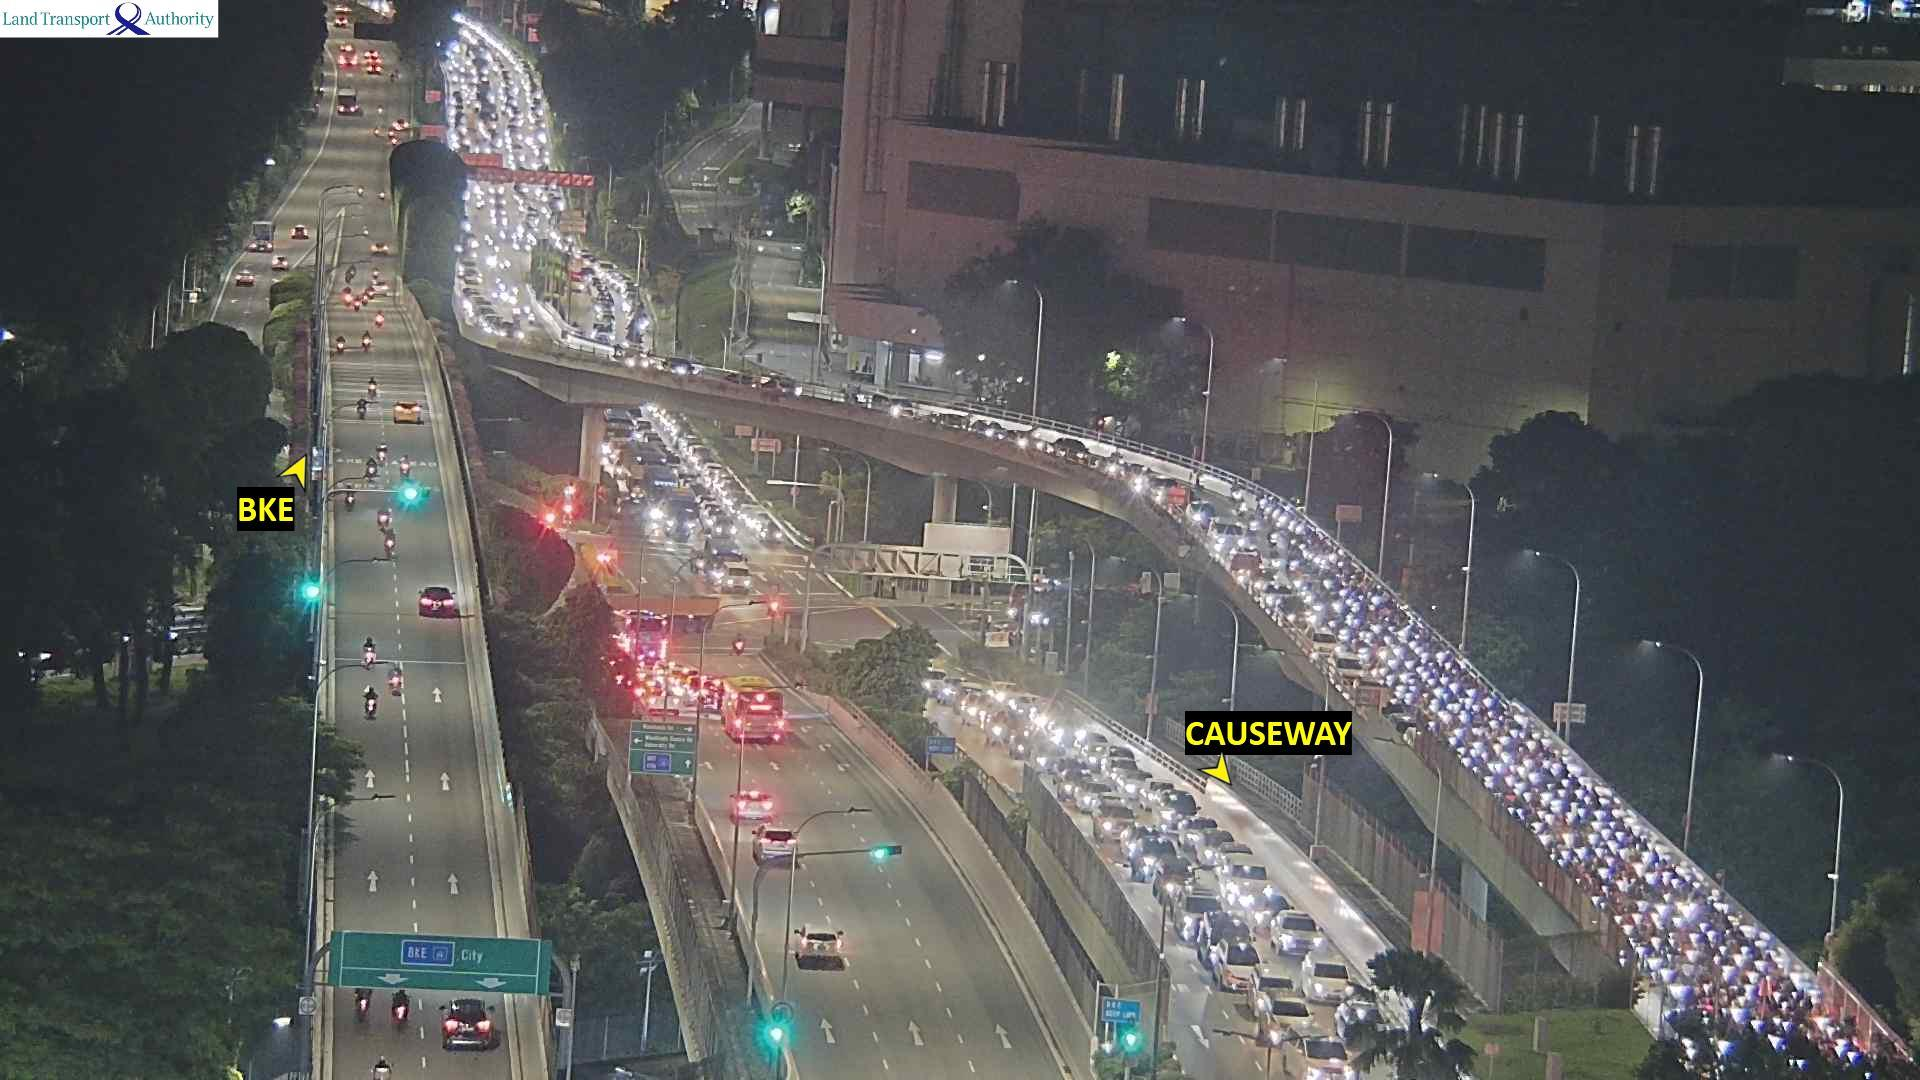vehicle-causeway-johor: (1284, 1029, 1353, 1080), (1221, 855, 1270, 906), (1200, 916, 1251, 964), (1263, 913, 1320, 953), (1261, 994, 1308, 1042), (1304, 956, 1353, 1001), (1213, 944, 1262, 989), (1178, 887, 1220, 938), (1156, 858, 1197, 902), (1137, 840, 1175, 880), (901, 406, 973, 426), (1196, 831, 1238, 862), (1215, 844, 1250, 881), (1247, 898, 1291, 927), (1098, 807, 1134, 841), (1331, 651, 1366, 684), (1089, 744, 1130, 770), (1155, 796, 1192, 825), (1209, 517, 1245, 546), (757, 376, 806, 397), (1125, 829, 1156, 860), (847, 397, 913, 411), (773, 377, 818, 398), (1176, 819, 1221, 840), (1006, 723, 1035, 754), (1143, 782, 1175, 808), (1109, 761, 1142, 786), (980, 708, 1009, 736), (1060, 773, 1092, 798), (1026, 738, 1060, 761), (1118, 774, 1149, 799), (1147, 476, 1174, 504), (935, 680, 965, 704), (1276, 600, 1308, 622), (963, 695, 989, 721), (1308, 628, 1335, 654), (655, 360, 703, 375), (1081, 785, 1110, 808), (1056, 440, 1085, 464), (951, 688, 981, 709), (924, 670, 948, 696), (1191, 502, 1215, 529), (973, 418, 1004, 438), (1104, 454, 1127, 476), (475, 307, 501, 327), (1007, 427, 1038, 443), (464, 289, 487, 310), (1456, 703, 1476, 727), (1075, 737, 1100, 756), (1047, 720, 1075, 736), (1253, 495, 1269, 522), (1000, 687, 1025, 704), (1013, 695, 1034, 715), (496, 323, 522, 339), (1027, 707, 1060, 719), (1253, 572, 1271, 592), (1273, 501, 1287, 526), (1427, 699, 1445, 717), (460, 231, 477, 251), (1557, 810, 1573, 831), (1731, 1007, 1750, 1025), (463, 261, 480, 280), (1276, 568, 1288, 595), (1772, 1036, 1788, 1055), (1663, 968, 1679, 985), (609, 344, 626, 360), (1329, 603, 1346, 618), (1230, 483, 1244, 502), (1266, 527, 1279, 547), (1675, 984, 1689, 1001), (1296, 518, 1309, 537), (1724, 965, 1738, 981), (1473, 744, 1487, 758), (1718, 1038, 1731, 1054), (1370, 596, 1386, 609), (1373, 667, 1389, 680), (1381, 647, 1393, 665), (1362, 634, 1373, 653), (1563, 833, 1576, 848), (1325, 553, 1340, 566), (1486, 775, 1497, 793), (1338, 628, 1349, 645), (1352, 600, 1362, 617), (1650, 959, 1662, 973), (1373, 621, 1385, 636), (1403, 655, 1415, 670), (1396, 686, 1408, 700), (1597, 820, 1609, 833), (1709, 931, 1720, 945), (1540, 833, 1551, 848), (1313, 601, 1324, 616), (1453, 736, 1464, 750), (1606, 836, 1617, 851), (1338, 588, 1348, 604), (1530, 773, 1542, 785), (1540, 793, 1551, 806), (1321, 575, 1332, 588), (1692, 931, 1701, 945), (1552, 799, 1563, 811), (1532, 819, 1542, 832), (1422, 667, 1431, 680), (1486, 696, 1495, 709), (1507, 778, 1518, 789), (1493, 761, 1503, 771), (1560, 787, 1567, 800), (1597, 811, 1605, 820), (1576, 847, 1582, 857)
vehicle-causeway-singapore: (725, 678, 783, 742), (793, 926, 848, 969), (442, 1000, 491, 1048), (754, 824, 798, 866), (731, 791, 775, 823), (418, 585, 458, 617), (401, 401, 431, 423), (353, 990, 373, 1023), (400, 989, 415, 1022), (373, 1054, 392, 1080), (361, 692, 377, 720), (382, 533, 397, 559), (360, 641, 376, 663), (378, 502, 390, 527), (393, 671, 406, 694), (365, 243, 388, 256), (356, 338, 372, 355), (295, 224, 313, 240), (340, 483, 355, 501), (400, 455, 409, 479), (364, 467, 377, 483), (373, 310, 385, 326), (369, 375, 377, 396), (357, 396, 365, 417), (377, 440, 386, 458), (338, 335, 343, 355)
